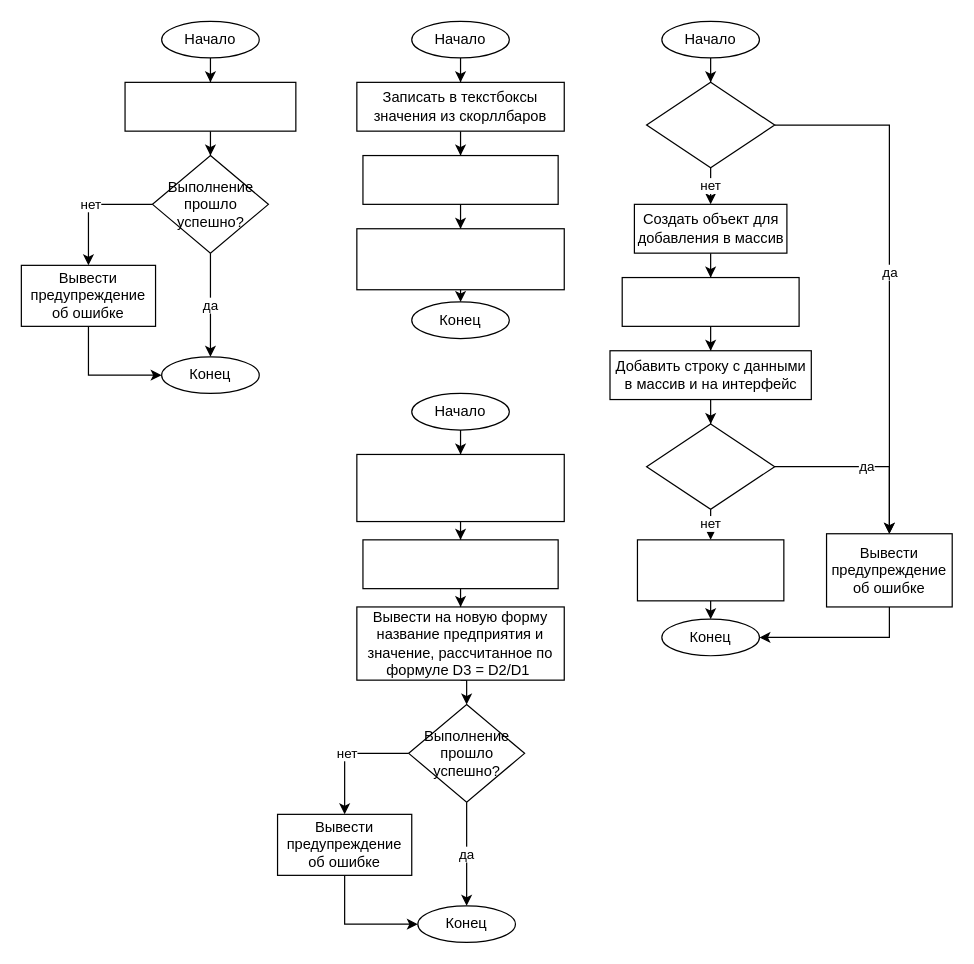
Image size: 974x964. Some labels were removed from this diagram. Each missing label, with the centre of its shape:
"Вызвать метод проверки введенных данных" belongs at point 710,301.
"Добавить в DataGridView столбцы с названиями" belongs at point 460,179.
"Инициализировать структуру данных и создать массив в 100 строк на ее основе" belongs at point 460,259.
"Отправить их на другую форму и вызвать форму" belongs at point 460,564.
"Получить данные из выбранной на интерфейсе строки таблицы" belongs at point 460,487.
"Увеличить переменную с количеством строк" belongs at point 710,570.
"Удалить из таблицы выбранную строку" belongs at point 210,106.
"Число строк массива превышает 100?" belongs at point 710,124.
"Числовые значения == 0?" belongs at point 710,466.
